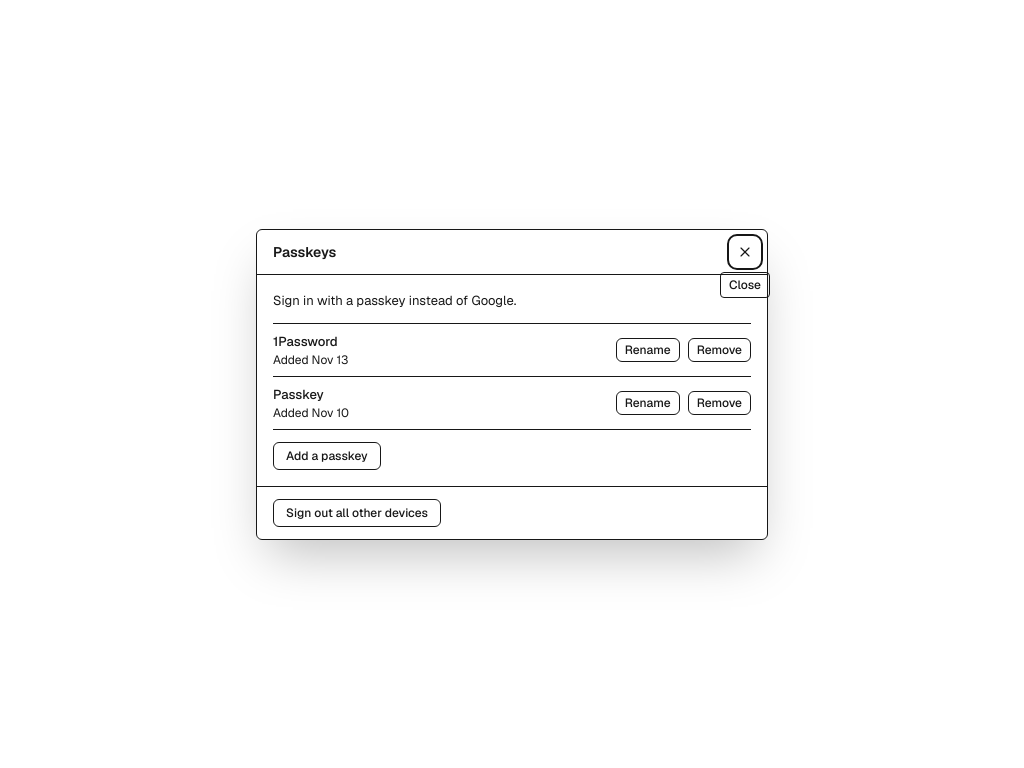
Test case: adding a passkey › a sign-in older than a day asks to sign in again with Google, coming back to this dialog
Step 1. Click the button "Add a passkey" → (327, 456), box [273, 442, 381, 470]
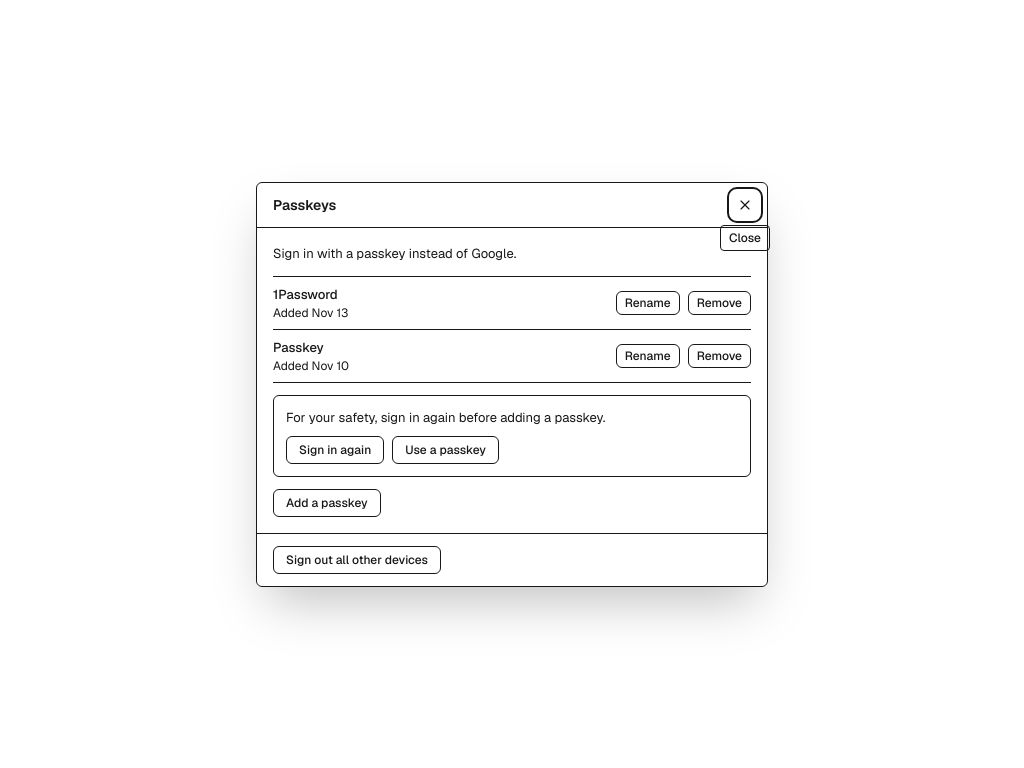
Now the message reads "For your safety, sign in again before adding a passkey.", box [286, 408, 605, 426]
Step 2. Click the button "Sign in again" → (335, 450), box [286, 436, 384, 464]
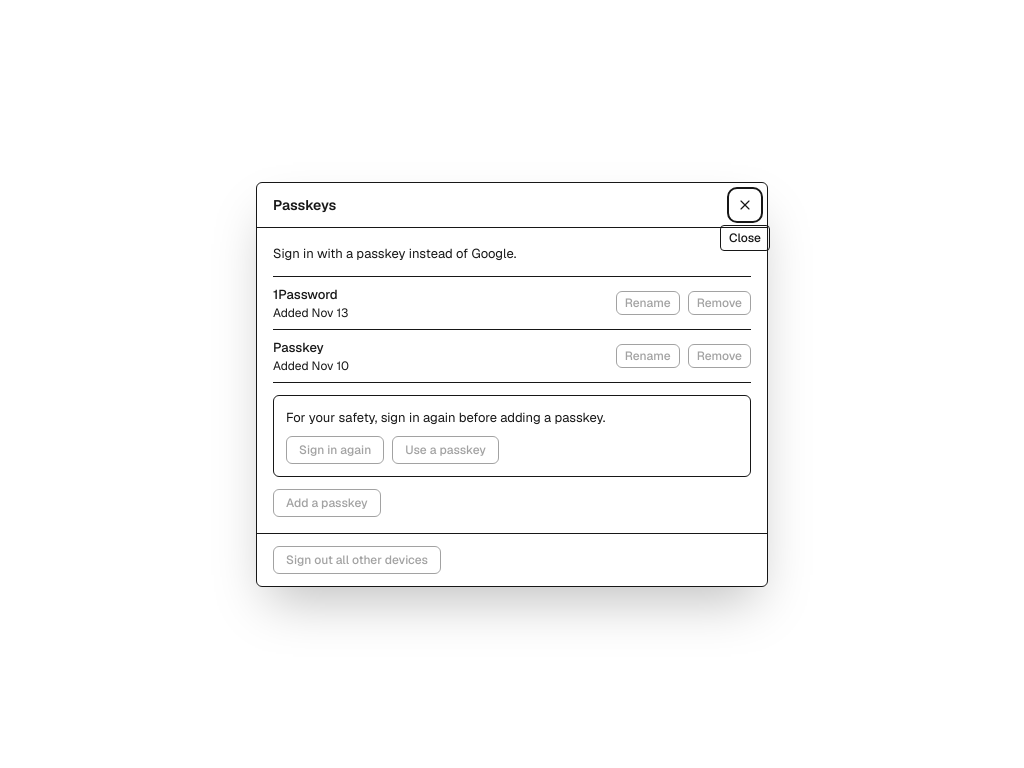
Now the button "Sign in again" is disabled, box [286, 436, 384, 464]
Now the button "Add a passkey" is disabled, box [273, 488, 381, 516]
